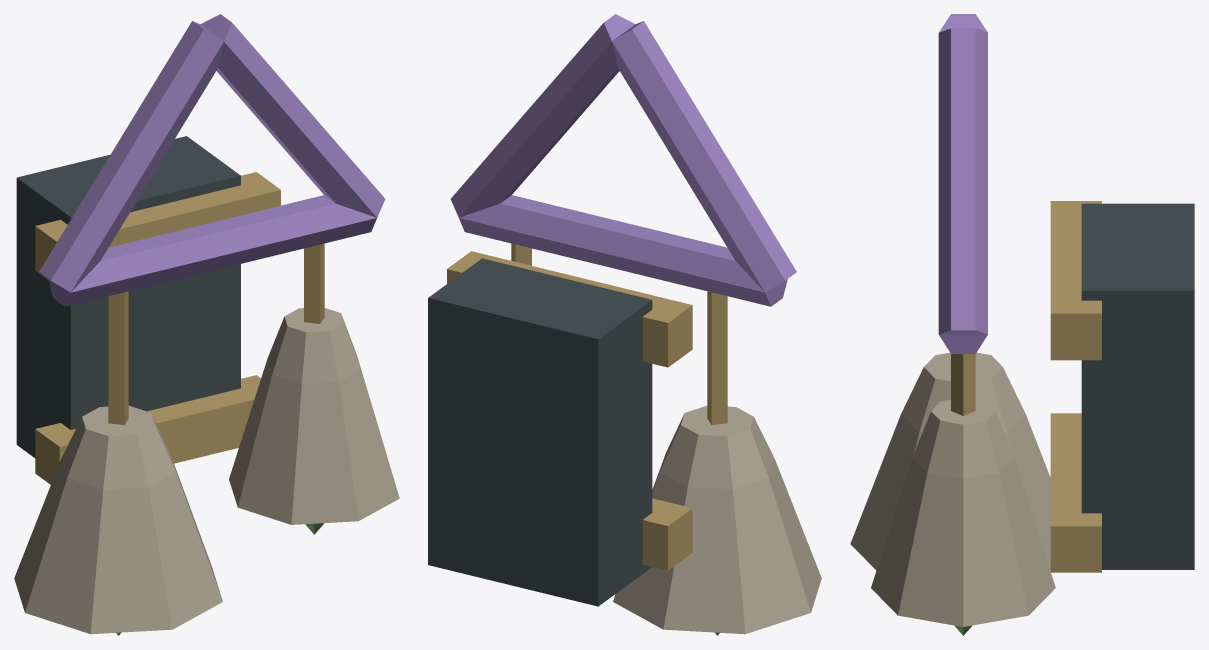
Rendered from Arsenal_PardonBoneBell.fbx.
3 views of the same model, side by side, from view 1: azimuth 30°, elevation 25°; view 2: azimuth 150°, elevation 25°; view 3: azimuth 270°, elevation 25° (orthographic). The views are drawn at different scales.
Visible parts, largest first — view 1: Arsenal_PardonBoneBell; view 2: Arsenal_PardonBoneBell; view 3: Arsenal_PardonBoneBell.
Part boxes in pixels (<box>): Arsenal_PardonBoneBell: <box>14,14,399,635</box>; Arsenal_PardonBoneBell: <box>428,14,821,635</box>; Arsenal_PardonBoneBell: <box>850,14,1194,635</box>.
Size of the model in its own units: 0.215 by 0.332 by 0.1675.
